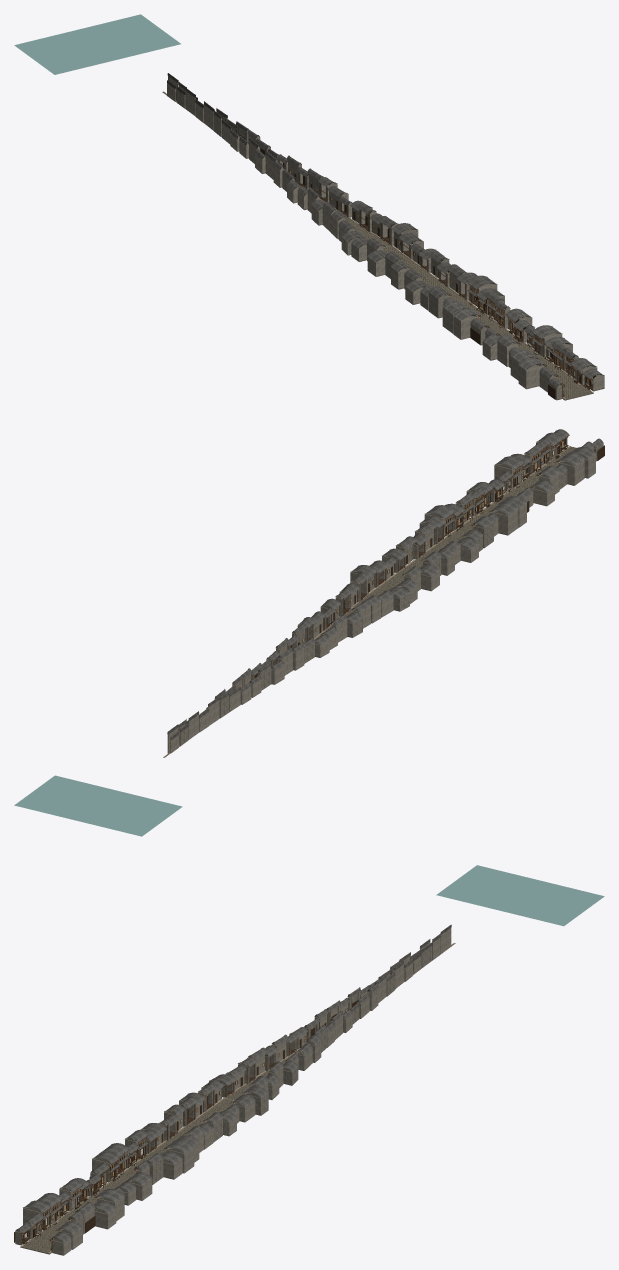
The model's file is hanging-gallery-street.glb.
3 renders of one model, top to bottom at view 1: azimuth 30°, elevation 25°; view 2: azimuth 150°, elevation 25°; view 3: azimuth 330°, elevation 25°, orthographic.
Parts seen in each view (by area): view 1: Plaster, RoofTiles, LakeWater, Timber, AgedPlaster, Paving, DarkTimber; view 2: Plaster, RoofTiles, LakeWater, Timber, AgedPlaster, Paving, DarkTimber; view 3: Plaster, RoofTiles, LakeWater, Timber, AgedPlaster, Paving, DarkTimber, StoneTrim.
Boxes of the visible parts, x1,y1,x2,y2 form: Plaster: [167, 76, 604, 392]; RoofTiles: [167, 73, 604, 387]; LakeWater: [14, 14, 180, 74]; Timber: [168, 74, 604, 399]; AgedPlaster: [177, 90, 578, 400]; Paving: [163, 92, 593, 400]; DarkTimber: [175, 92, 595, 399]; Plaster: [167, 438, 595, 753]; RoofTiles: [167, 429, 603, 740]; LakeWater: [14, 775, 182, 836]; Timber: [168, 435, 573, 752]; AgedPlaster: [180, 444, 603, 746]; Paving: [163, 446, 576, 757]; DarkTimber: [240, 439, 604, 687]; Plaster: [23, 928, 451, 1255]; RoofTiles: [15, 925, 451, 1242]; LakeWater: [436, 865, 604, 926]; Timber: [20, 925, 449, 1254]; AgedPlaster: [15, 946, 432, 1245]; Paving: [20, 943, 454, 1254]; DarkTimber: [14, 962, 413, 1242]; StoneTrim: [20, 943, 455, 1253].
Bounding box in the file's own units: 36 × 6.58 × 247.
19 materials, 7 textured.
